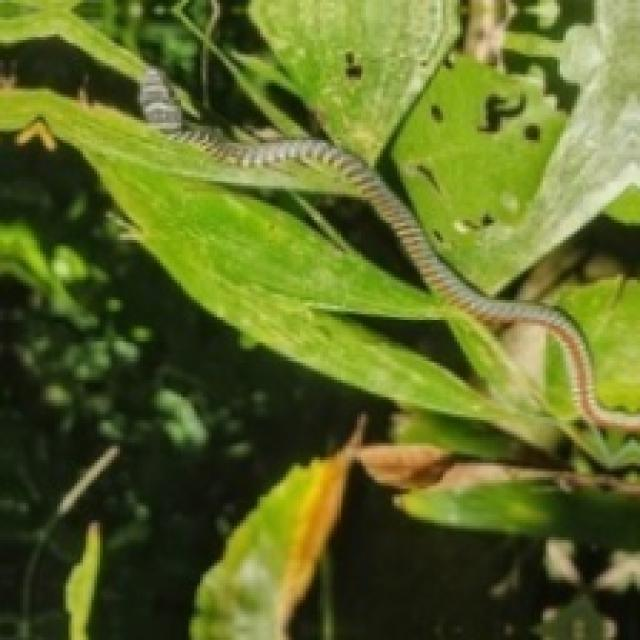paradise tree snake: (166, 120, 637, 431), (140, 69, 160, 117)
